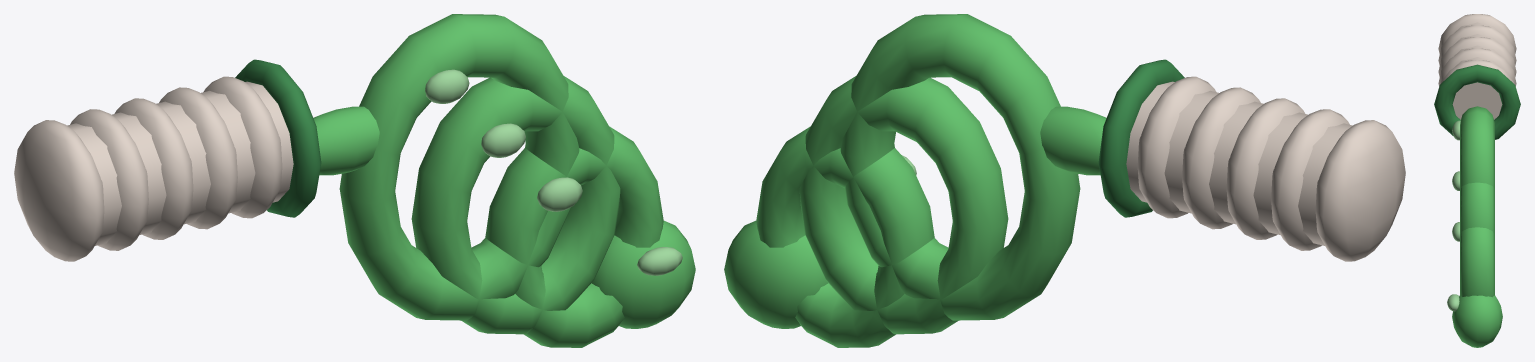
File: wpn_jellywhip.glb
3 views of the same model, side by side, from view 1: azimuth 30°, elevation 25°; view 2: azimuth 150°, elevation 25°; view 3: azimuth 270°, elevation 25° (orthographic). The views are drawn at different scales.
Parts seen in each view (by area): view 1: object 1, fluff-grip_5, fluff-grip_4; view 2: object 1, fluff-grip_5, fluff-grip_4; view 3: object 1, fluff-grip_4, fluff-grip_5.
Part boxes in pixels (bbox=[...]): object 1: bbox=[14, 14, 695, 347]; fluff-grip_5: bbox=[203, 76, 282, 218]; fluff-grip_4: bbox=[159, 87, 237, 229]; object 1: bbox=[724, 14, 1405, 347]; fluff-grip_5: bbox=[1137, 76, 1216, 218]; fluff-grip_4: bbox=[1182, 87, 1260, 229]; object 1: bbox=[1434, 14, 1520, 347]; fluff-grip_4: bbox=[1438, 48, 1516, 86]; fluff-grip_5: bbox=[1441, 60, 1513, 83].
Bounding box in the file's own units: 0.8123 × 0.4225 × 0.175.
